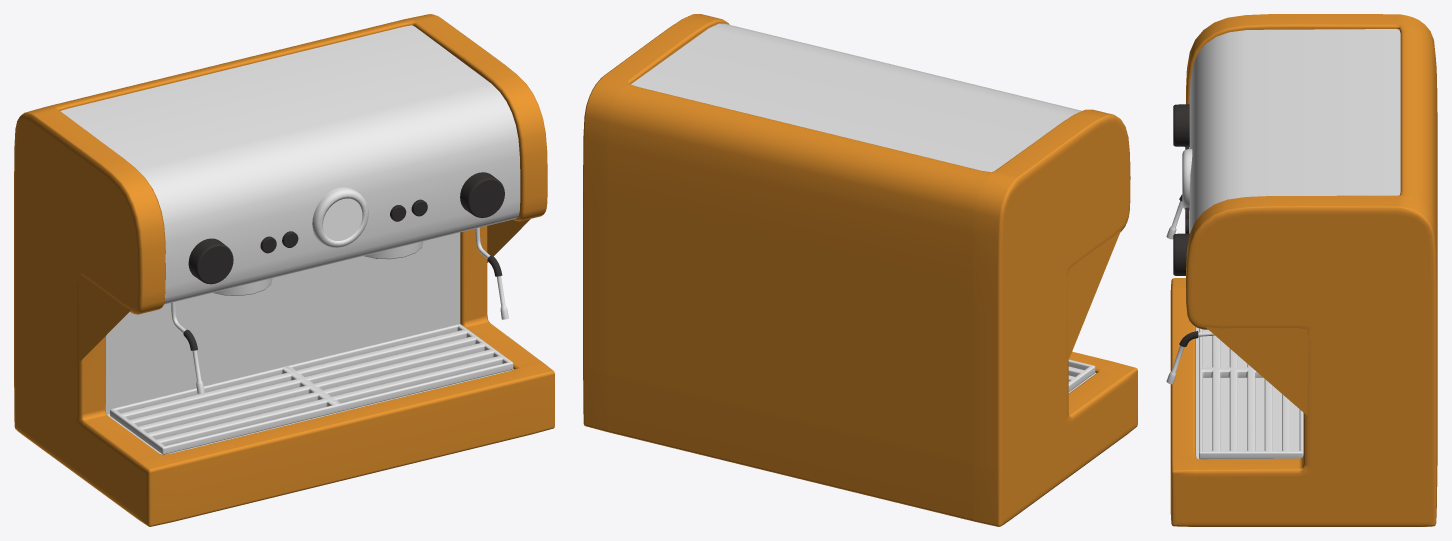
Rendered from SM_espresso_machine.fbx.
3 views of the same model, side by side, from view 1: azimuth 30°, elevation 25°; view 2: azimuth 150°, elevation 25°; view 3: azimuth 270°, elevation 25° (orthographic). The views are drawn at different scales.
Parts seen in each view (by area): view 1: SM_espresso_machine; view 2: SM_espresso_machine; view 3: SM_espresso_machine.
Boxes of the visible parts, <box> form: SM_espresso_machine: <box>14,14,554,526</box>; SM_espresso_machine: <box>583,14,1137,526</box>; SM_espresso_machine: <box>1166,14,1437,526</box>.
Bounding box in the file's own units: 91.81 × 70.72 × 54.01.
Materials: 3 (3 with a texture image).
